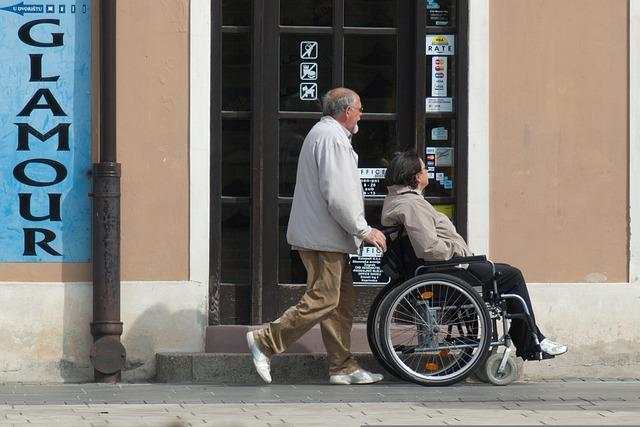push_wheelchair: (245, 88, 401, 385)
wheelchair: (366, 152, 568, 387)
